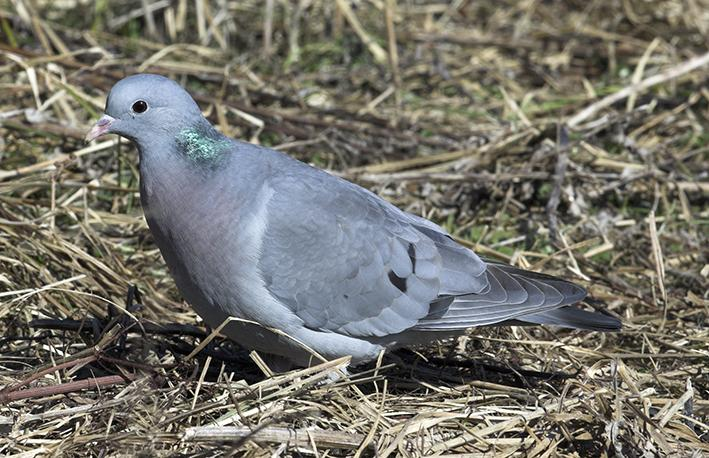Flying Rat: (66, 71, 560, 370)
